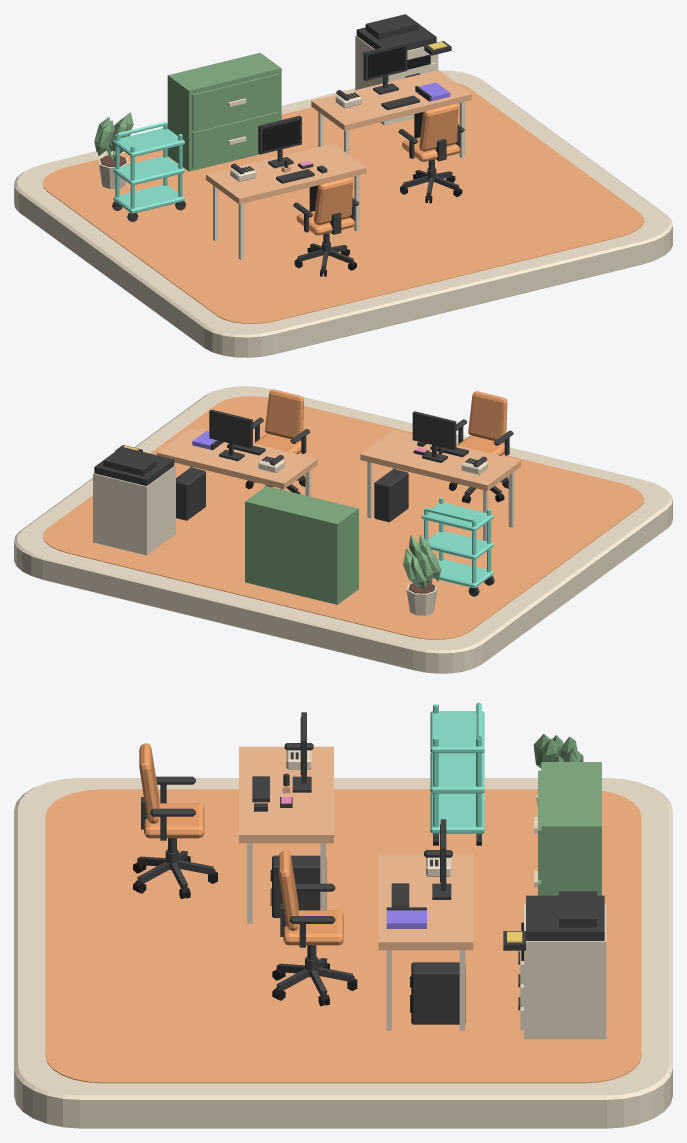
3 views of the same model, one above another, from view 1: azimuth 30°, elevation 25°; view 2: azimuth 150°, elevation 25°; view 3: azimuth 270°, elevation 25° (orthographic). The views are drawn at different scales.
Parts seen in each view (by area): view 1: COM-02 Floor Surface, COM-01 Rounded Base Direct, Cabinet, Top, Top.001, Body, COM-04_Chair_blender_direct.001, COM-04_Chair_blender_direct, Pot, Frame.001, Frame, Tray.002 (+2 smaller); view 2: COM-02 Floor Surface, COM-01 Rounded Base Direct, Cabinet, Body, Top, Top.001, COM-04_Chair_blender_direct, COM-04_Chair_blender_direct.001, Pot, Frame, Tower, Frame.001 (+4 smaller); view 3: COM-02 Floor Surface, COM-01 Rounded Base Direct, Body, Cabinet, Top, Top.001, COM-04_Chair_blender_direct.001, COM-04_Chair_blender_direct, Tower.001, Tray.002, Tray.001, Tray (+5 smaller).
Boxes of the visible parts, bbox=[...] form: COM-02 Floor Surface: bbox=[42, 83, 644, 323]; COM-01 Rounded Base Direct: bbox=[14, 70, 672, 357]; Cabinet: bbox=[167, 52, 281, 171]; Top: bbox=[206, 143, 366, 259]; Top.001: bbox=[311, 70, 471, 157]; Body: bbox=[355, 14, 451, 125]; COM-04_Chair_blender_direct.001: bbox=[398, 103, 464, 203]; COM-04_Chair_blender_direct: bbox=[293, 177, 359, 276]; Pot: bbox=[94, 112, 133, 188]; Frame.001: bbox=[363, 42, 407, 94]; Frame: bbox=[258, 115, 301, 168]; Tray.002: bbox=[113, 128, 184, 157]; COM-02 Floor Surface: bbox=[42, 396, 644, 639]; COM-01 Rounded Base Direct: bbox=[14, 386, 672, 673]; Cabinet: bbox=[245, 486, 358, 604]; Body: bbox=[93, 445, 175, 555]; Top: bbox=[360, 430, 520, 541]; Top.001: bbox=[157, 428, 317, 496]; COM-04_Chair_blender_direct: bbox=[449, 391, 513, 503]; COM-04_Chair_blender_direct.001: bbox=[245, 389, 310, 494]; Pot: bbox=[403, 535, 441, 615]; Frame: bbox=[412, 411, 456, 462]; Tower: bbox=[374, 469, 408, 522]; Frame.001: bbox=[209, 409, 252, 461]; COM-02 Floor Surface: bbox=[45, 789, 641, 1083]; COM-01 Rounded Base Direct: bbox=[14, 778, 672, 1128]; Body: bbox=[503, 891, 606, 1039]; Cabinet: bbox=[534, 762, 601, 895]; Top: bbox=[239, 746, 333, 923]; Top.001: bbox=[378, 854, 473, 1030]; COM-04_Chair_blender_direct.001: bbox=[272, 850, 357, 1006]; COM-04_Chair_blender_direct: bbox=[133, 743, 217, 898]; Tower.001: bbox=[411, 962, 465, 1024]; Tray.002: bbox=[430, 711, 484, 753]; Tray.001: bbox=[430, 752, 484, 793]; Tray: bbox=[430, 793, 484, 833].
Size of the model in its own units: 6 by 1.65 by 5.2.
Materials: 1 (1 with a texture image).
